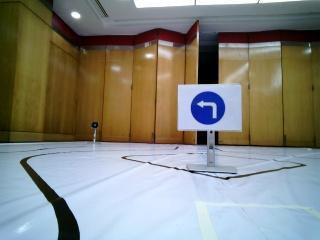left: (175, 85, 242, 131)
